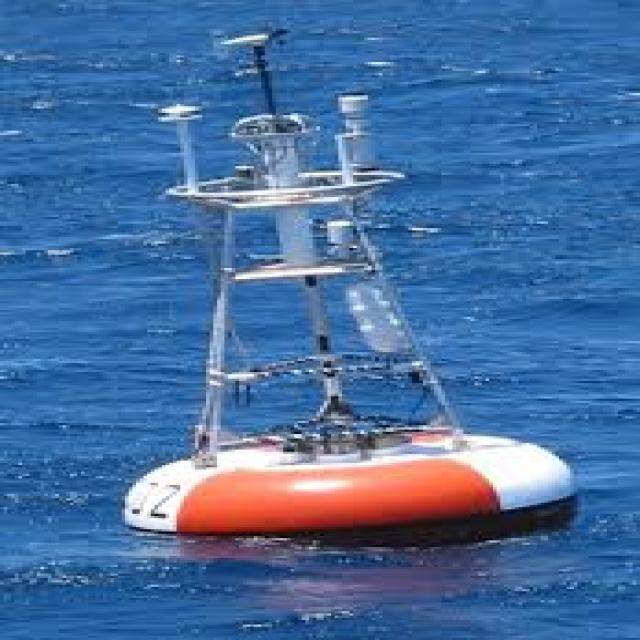2.4 safe water mark: (61, 6, 593, 556)
